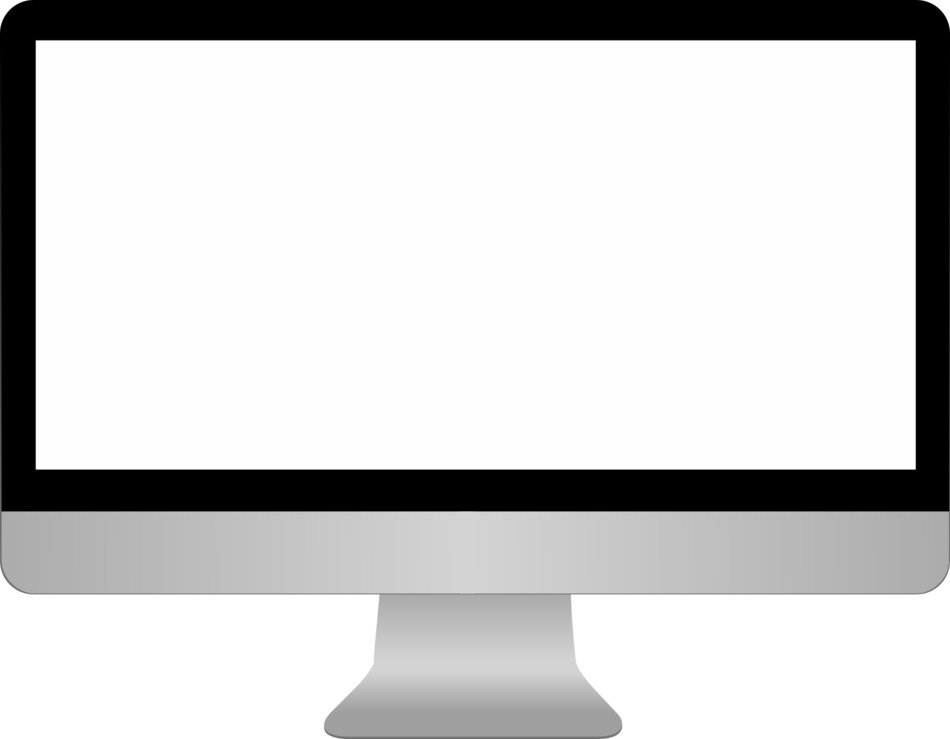Ordinateur: (612, 76, 780, 359)
